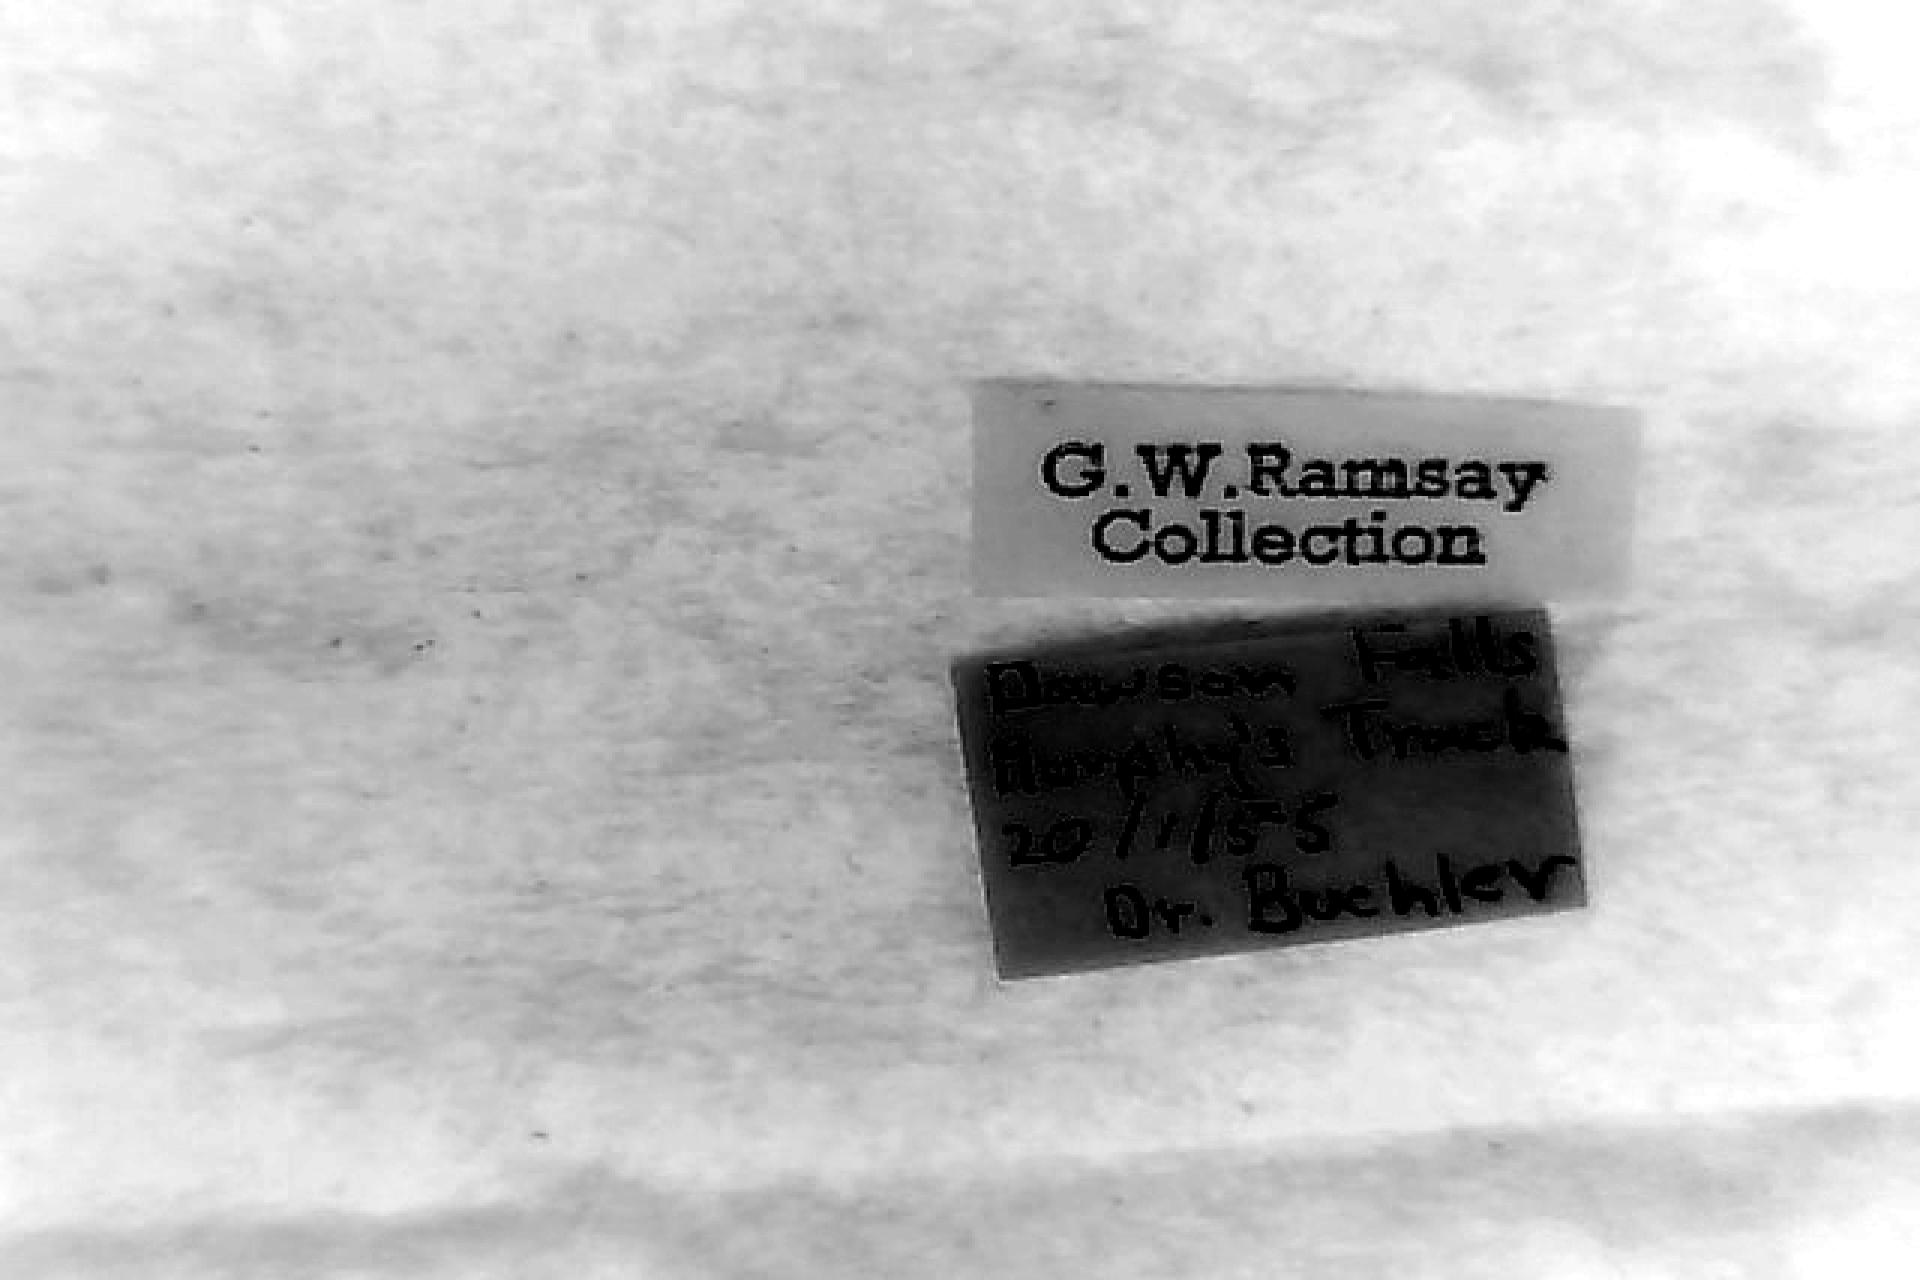hand_label: (953, 610, 1586, 974)
typed_label: (974, 383, 1633, 599)
